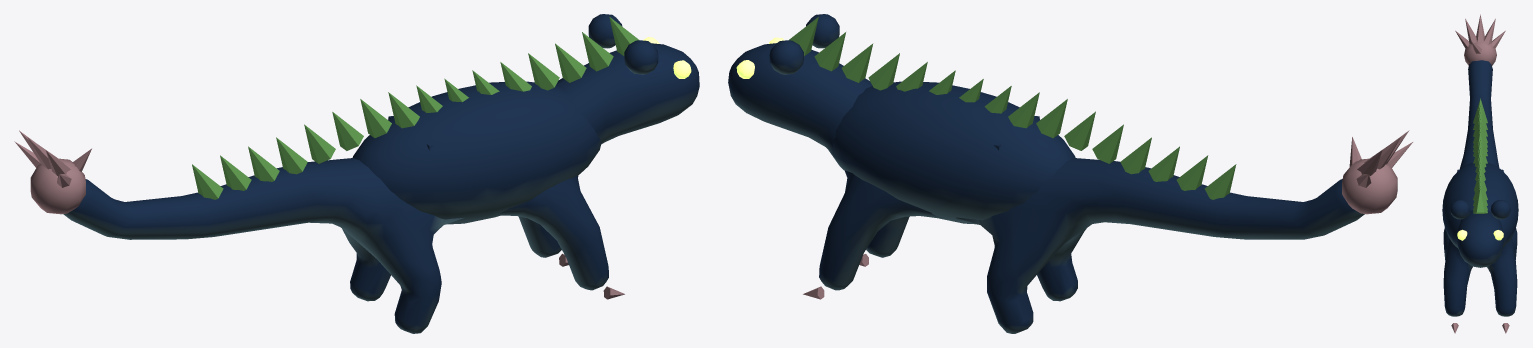
Rendered from ahuizotl.glb.
The picture shows the model from 3 angles, left to right: view 1: azimuth 30°, elevation 25°; view 2: azimuth 150°, elevation 25°; view 3: azimuth 270°, elevation 25°; orthographic projection. The views are drawn at different scales.
Parts seen in each view (by area): view 1: ahuizotl.001; view 2: ahuizotl.001; view 3: ahuizotl.001.
Part boxes in pixels (box(x1,y1,x2,y2)): ahuizotl.001: box(14, 14, 699, 333); ahuizotl.001: box(728, 14, 1412, 333); ahuizotl.001: box(1442, 14, 1518, 333).
Bounding box in the file's own units: 1.73 × 0.6959 × 0.3.
